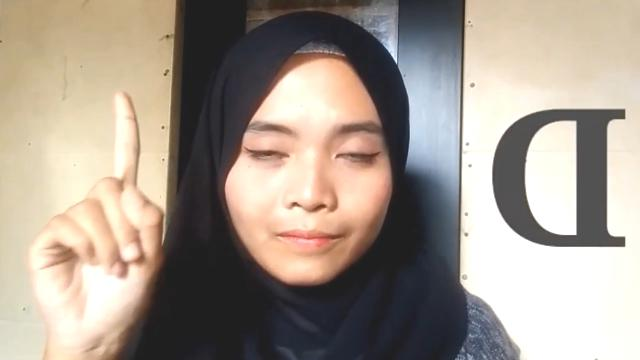D: (24, 86, 170, 344)
